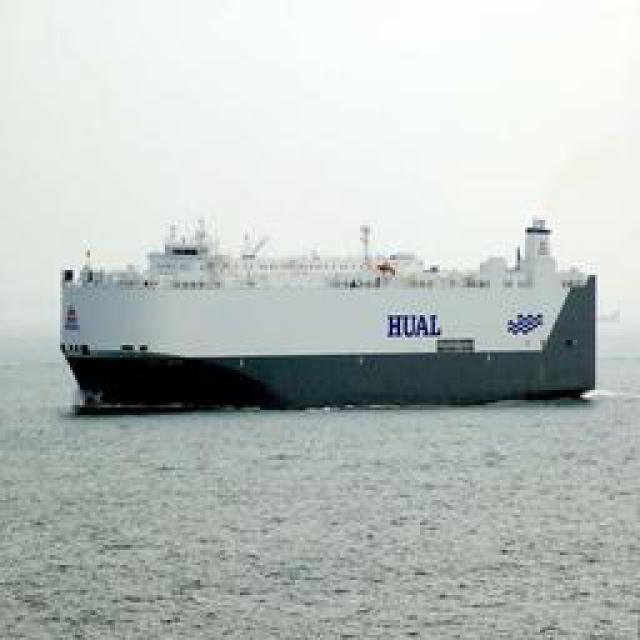Ship: (66, 206, 589, 399)
